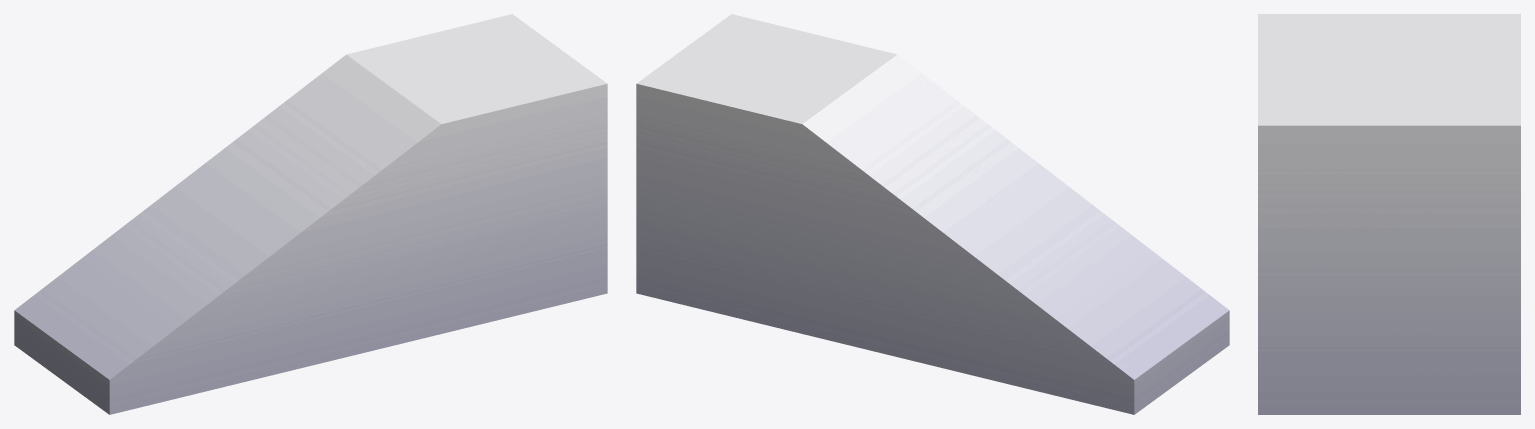
Rendered from brick-kit--none-lq-brick-slope-3x1.glb.
3 views of the same model, side by side, from view 1: azimuth 30°, elevation 25°; view 2: azimuth 150°, elevation 25°; view 3: azimuth 270°, elevation 25° (orthographic). The views are drawn at different scales.
Parts seen in each view (by area): view 1: none-lq-brick-slope-3x1; view 2: none-lq-brick-slope-3x1; view 3: none-lq-brick-slope-3x1.
Part boxes in pixels (x1=…): none-lq-brick-slope-3x1: x1=14, y1=14, x2=607, y2=414; none-lq-brick-slope-3x1: x1=636, y1=14, x2=1229, y2=414; none-lq-brick-slope-3x1: x1=1258, y1=14, x2=1520, y2=414.
Size of the model in its own units: 0.2385 by 0.096 by 0.079.
1 material, 1 textured.
